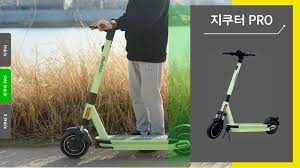kick_board: (206, 50, 280, 138)
kick_body: (233, 124, 266, 132)
kick_handler: (221, 48, 256, 61)
kick_neck: (83, 41, 114, 118), (223, 64, 240, 110)
kick_wheel: (60, 128, 90, 157), (209, 120, 223, 138), (265, 117, 277, 134)
